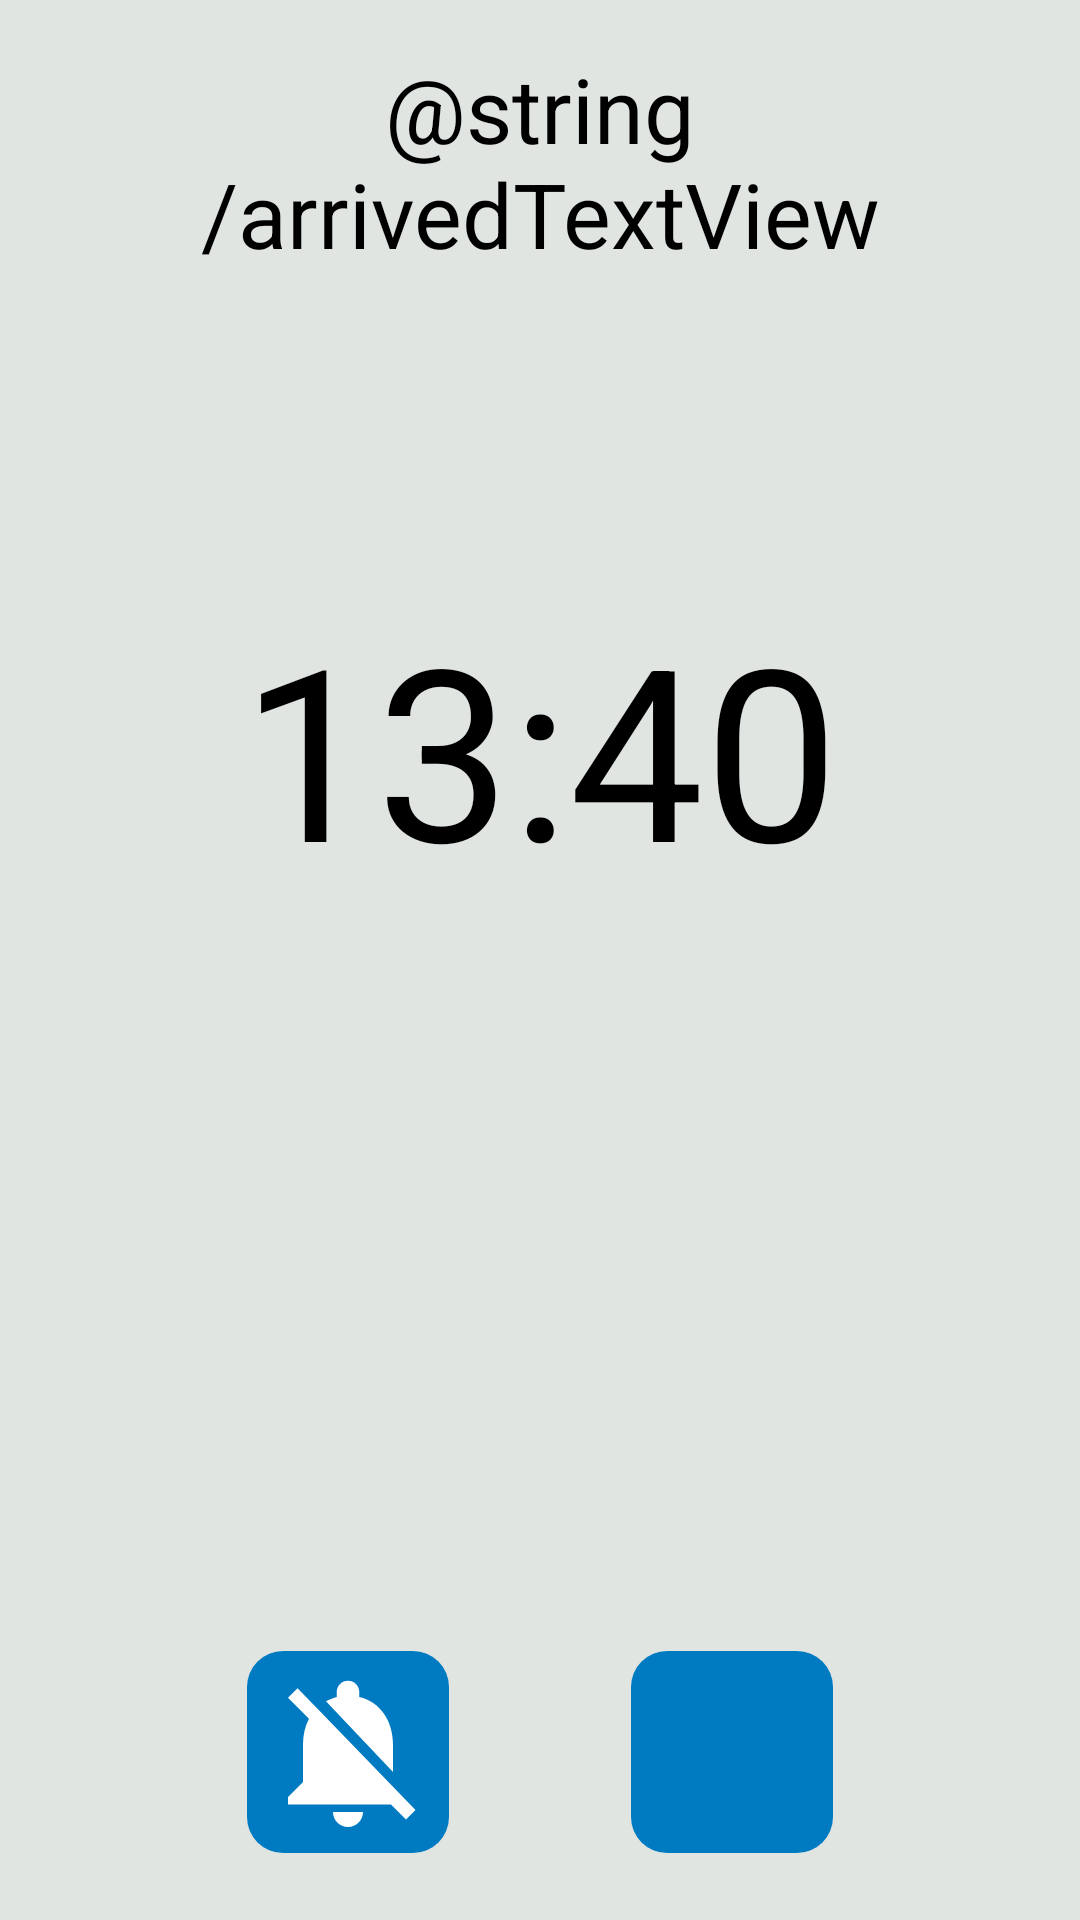

Icons on this 1080x1920 Android screen, each with its box as Rect(x1, y1, x2, y2):
bell off: Rect(288, 1680, 416, 1827)
